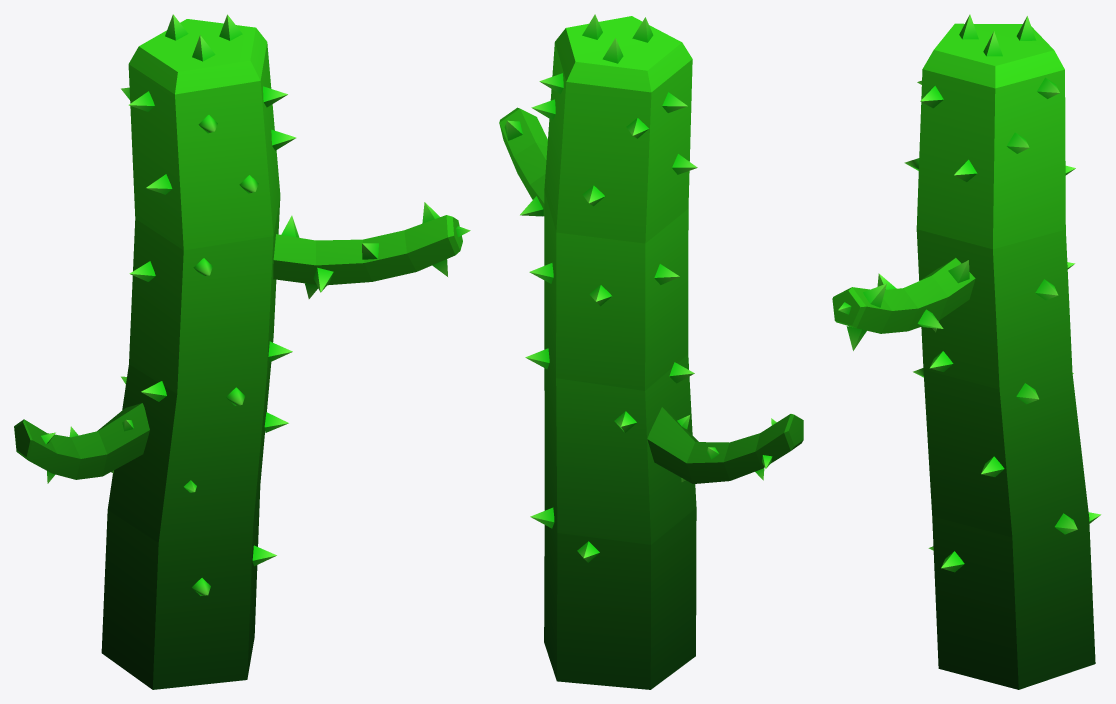
File: cactus01.fbx
3 views of the same model, side by side, from view 1: azimuth 30°, elevation 25°; view 2: azimuth 150°, elevation 25°; view 3: azimuth 270°, elevation 25° (orthographic).
Visible parts, largest first — view 1: Cactus01; view 2: Cactus01; view 3: Cactus01.
Boxes of the visible parts, box(x1,y1,x2,y2) form: Cactus01: box(14, 14, 470, 689); Cactus01: box(499, 14, 803, 689); Cactus01: box(832, 14, 1100, 689).
Bounding box in the file's own units: 117 × 194 × 73.74.
